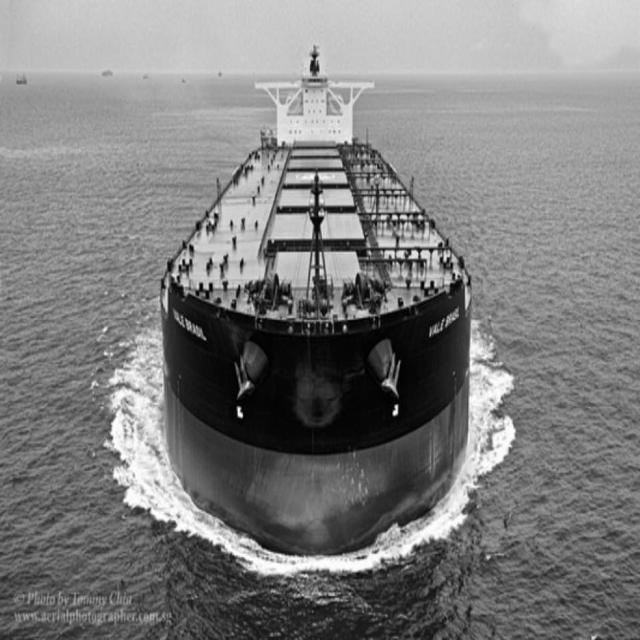Bulk-Carrier: (156, 32, 481, 577)
